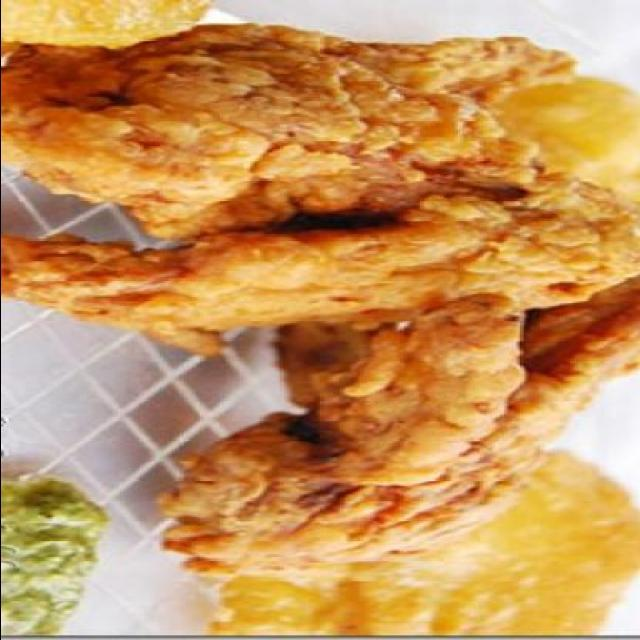Deep fried chicken wing: (37, 37, 626, 574)
